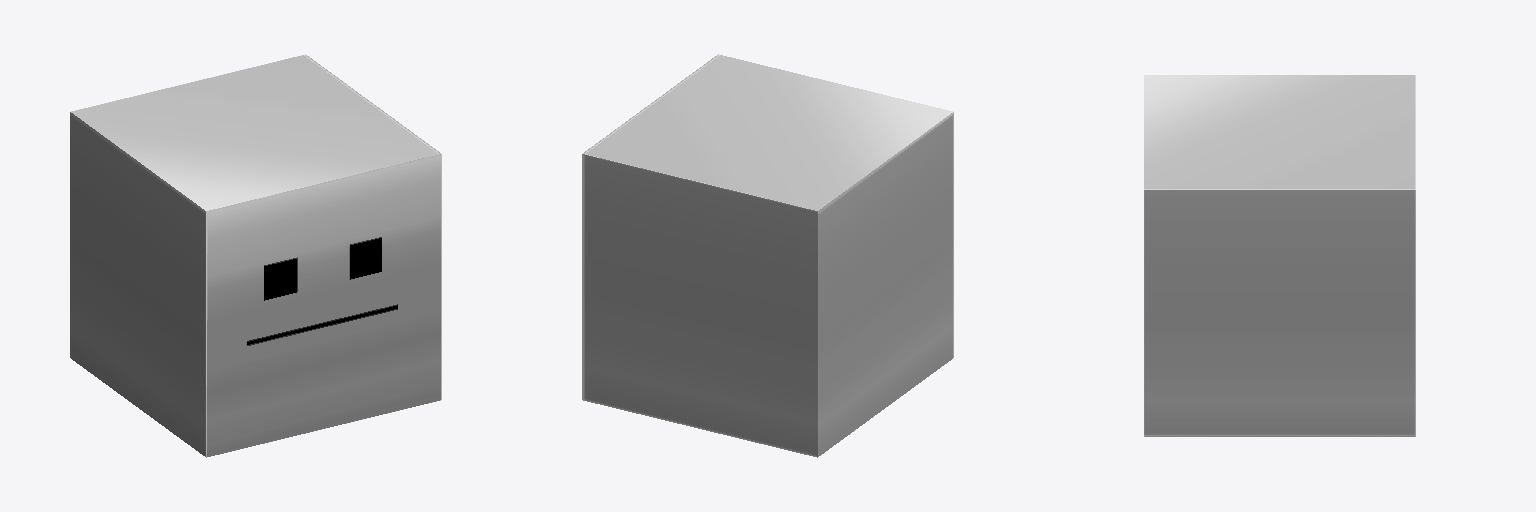
The picture shows the model from 3 angles: view 1: azimuth 30°, elevation 25°; view 2: azimuth 150°, elevation 25°; view 3: azimuth 270°, elevation 25°; orthographic projection.
Visible parts, largest first — view 1: Cube; view 2: Cube; view 3: Cube.
Part boxes in pixels (bbox=[...]): Cube: bbox=[70, 54, 441, 457]; Cube: bbox=[582, 54, 953, 457]; Cube: bbox=[1144, 75, 1415, 436].
Size of the model in its own units: 2 by 2 by 2.
Materials: 1 (1 with a texture image).